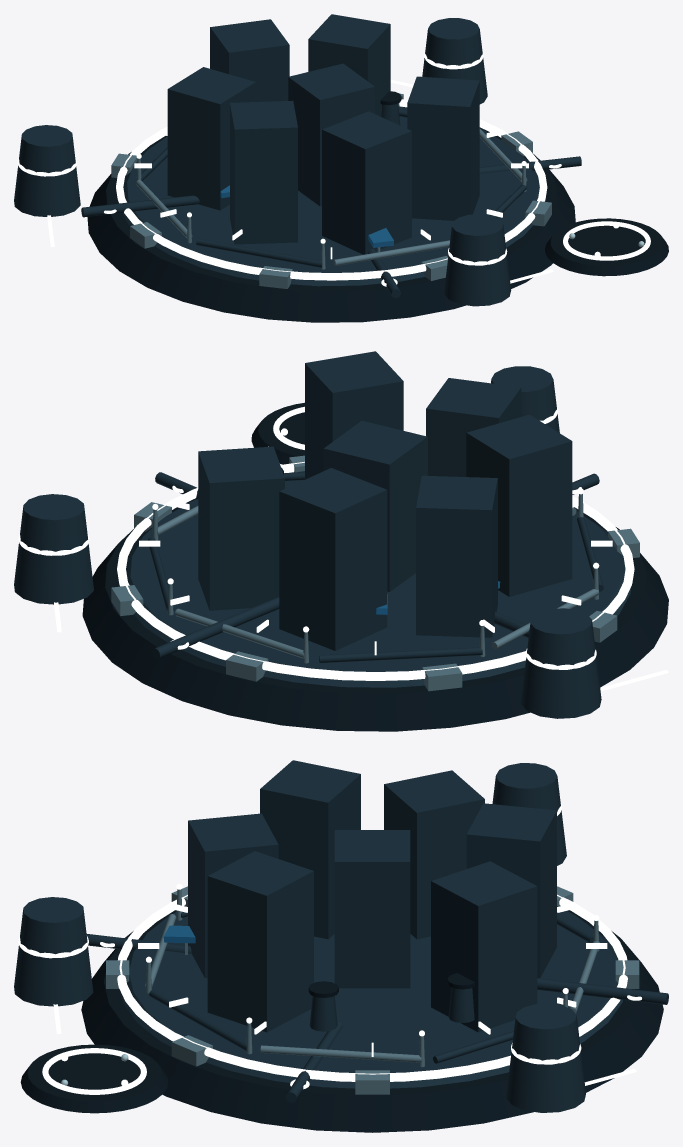
The model's file is metalStorage-stage2.glb.
The picture shows the model from 3 angles, top to bottom: view 1: azimuth 30°, elevation 25°; view 2: azimuth 150°, elevation 25°; view 3: azimuth 270°, elevation 25°; orthographic projection. The views are drawn at different scales.
Visible parts, largest first — view 1: metal-vault (×7), armored-foundation, upper-deck, refinery-annex-0, refinery-annex-1, landing-pad, perimeter-light, refinery-annex-2, utility-conduit-1, landing-guidance-light, service-catwalk-2, service-catwalk-1 (+6 smaller); view 2: metal-vault (×7), armored-foundation, upper-deck, refinery-annex-1, refinery-annex-2, perimeter-light, refinery-annex-0, landing-pad, utility-conduit-2, service-catwalk-4, service-catwalk-5, buttress-5 (+5 smaller); view 3: metal-vault (×7), upper-deck, armored-foundation, refinery-annex-2, refinery-annex-0, landing-pad, perimeter-light, refinery-annex-1, utility-conduit-2, landing-guidance-light, service-catwalk-7, thermal-vent-4 (+8 smaller).
Boxes of the visible parts, x1=… form: metal-vault (×7): x1=167, y1=14, x2=479, y2=254; armored-foundation: x1=87, y1=107, x2=575, y2=322; upper-deck: x1=118, y1=106, x2=545, y2=286; refinery-annex-0: x1=444, y1=214, x2=511, y2=306; refinery-annex-1: x1=14, y1=125, x2=80, y2=216; landing-pad: x1=545, y1=218, x2=668, y2=276; perimeter-light: x1=116, y1=99, x2=547, y2=280; refinery-annex-2: x1=422, y1=18, x2=487, y2=104; utility-conduit-1: x1=81, y1=195, x2=199, y2=217; landing-guidance-light: x1=563, y1=221, x2=650, y2=260; service-catwalk-2: x1=196, y1=238, x2=322, y2=267; service-catwalk-1: x1=333, y1=240, x2=449, y2=265; metal-vault (×7): x1=198, y1=351, x2=572, y2=650; armored-foundation: x1=82, y1=472, x2=668, y2=731; upper-deck: x1=119, y1=471, x2=631, y2=687; refinery-annex-1: x1=521, y1=608, x2=601, y2=718; refinery-annex-2: x1=14, y1=494, x2=93, y2=604; perimeter-light: x1=117, y1=461, x2=634, y2=680; refinery-annex-0: x1=491, y1=366, x2=559, y2=432; landing-pad: x1=251, y1=402, x2=304, y2=464; utility-conduit-2: x1=152, y1=597, x2=279, y2=659; service-catwalk-4: x1=319, y1=647, x2=482, y2=662; service-catwalk-5: x1=175, y1=608, x2=304, y2=658; buttress-5: x1=422, y1=663, x2=462, y2=691; metal-vault (×7): x1=188, y1=760, x2=556, y2=1032; upper-deck: x1=119, y1=906, x2=622, y2=1088; armored-foundation: x1=81, y1=910, x2=663, y2=1132; refinery-annex-2: x1=506, y1=1003, x2=585, y2=1112; refinery-annex-0: x1=14, y1=897, x2=93, y2=1006; landing-pad: x1=20, y1=1044, x2=168, y2=1113; perimeter-light: x1=117, y1=894, x2=627, y2=1081; refinery-annex-1: x1=492, y1=763, x2=566, y2=865; utility-conduit-2: x1=537, y1=978, x2=668, y2=1004; landing-guidance-light: x1=42, y1=1048, x2=146, y2=1094; service-catwalk-7: x1=260, y1=1045, x2=421, y2=1062; thermal-vent-4: x1=309, y1=996, x2=337, y2=1031.
Bounding box in the file's own units: 11.1 × 3.19 × 10.87.
